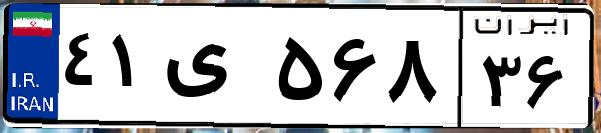1: (110, 28, 158, 98)
3: (475, 38, 525, 113)
4: (57, 26, 110, 100)
5: (270, 28, 330, 110)
6: (330, 28, 385, 110), (525, 38, 570, 115)
8: (385, 28, 445, 110)
ی: (158, 20, 270, 120)
